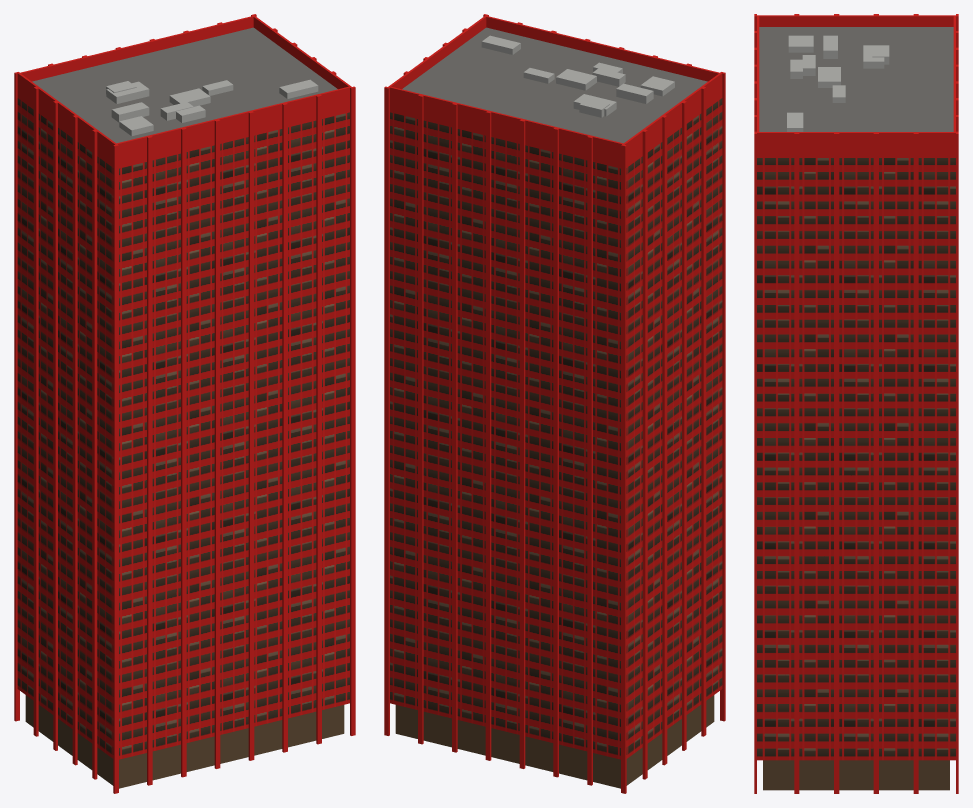
File: cna_center_333_s_wabash.glb
3 views of the same model, side by side, from view 1: azimuth 30°, elevation 25°; view 2: azimuth 150°, elevation 25°; view 3: azimuth 270°, elevation 25° (orthographic).
Parts seen in each view (by area): view 1: cna_center_333_s_wabash; view 2: cna_center_333_s_wabash; view 3: cna_center_333_s_wabash.
Part boxes in pixels (x1,y1,x2,y2): cna_center_333_s_wabash: (14,14,355,793); cna_center_333_s_wabash: (384,14,725,793); cna_center_333_s_wabash: (754,14,958,793).
Size of the model in its own units: 71.4 by 183 by 51.4.
2 materials, 2 textured.
